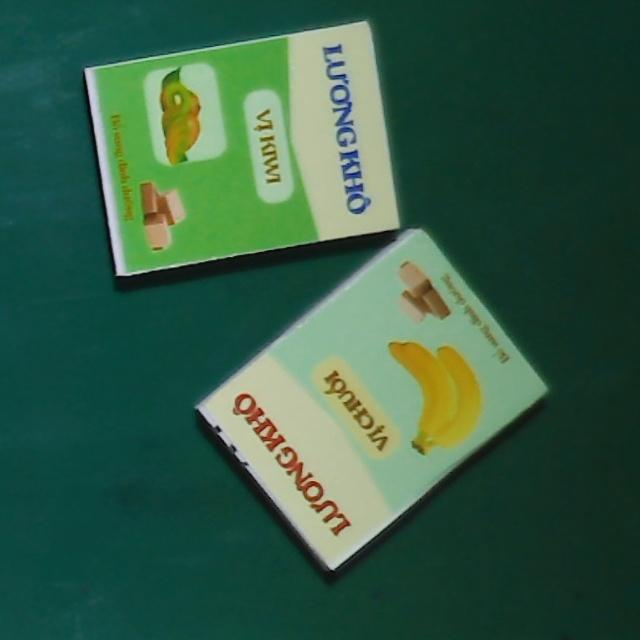chuoi: (190, 220, 556, 577)
kiwi: (83, 21, 404, 275)
